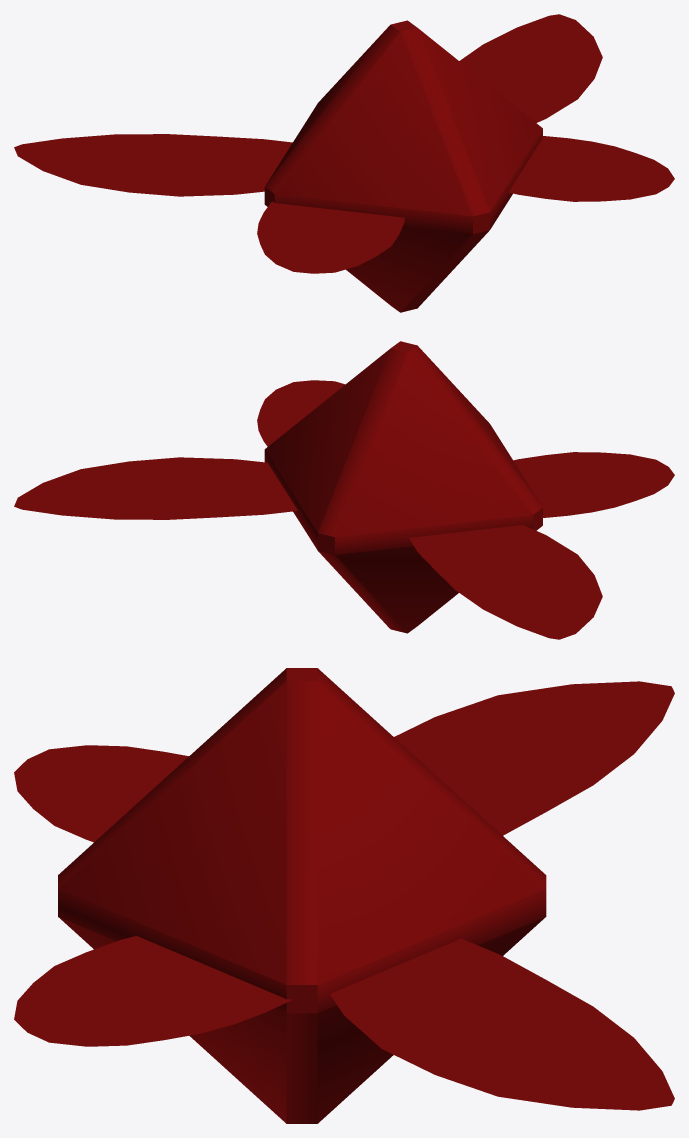
The model's file is Fairy_02.fbx.
3 views of the same model, one above another, from view 1: azimuth 30°, elevation 25°; view 2: azimuth 150°, elevation 25°; view 3: azimuth 270°, elevation 25° (orthographic). The views are drawn at different scales.
Parts seen in each view (by area): view 1: Fairy_Tri, Wing_L (3), Wing_R (3); view 2: Fairy_Tri, Wing_L (3), Wing_R (3); view 3: Fairy_Tri, Wing_R (3), Wing_L (3).
Part boxes in pixels (box(x1,y1,x2,y2)): Fairy_Tri: box(264, 20, 542, 312); Wing_L (3): box(14, 134, 404, 273); Wing_R (3): box(459, 14, 674, 201); Fairy_Tri: box(264, 341, 542, 633); Wing_L (3): box(409, 452, 674, 639); Wing_R (3): box(14, 380, 345, 519); Fairy_Tri: box(58, 668, 546, 1123); Wing_R (3): box(14, 936, 674, 1110); Wing_L (3): box(14, 681, 674, 842).
Size of the model in its own units: 184 by 88.69 by 120.
